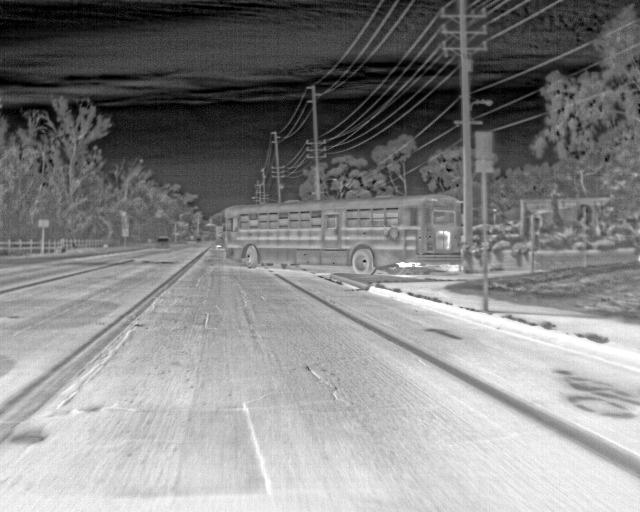car: (211, 225, 225, 249), (154, 235, 170, 249)
